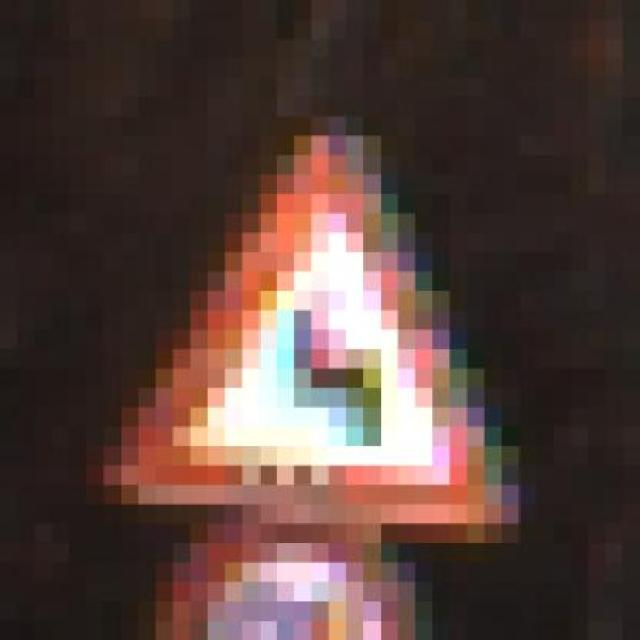Left Zig Zag Traffic: (68, 116, 520, 524)
